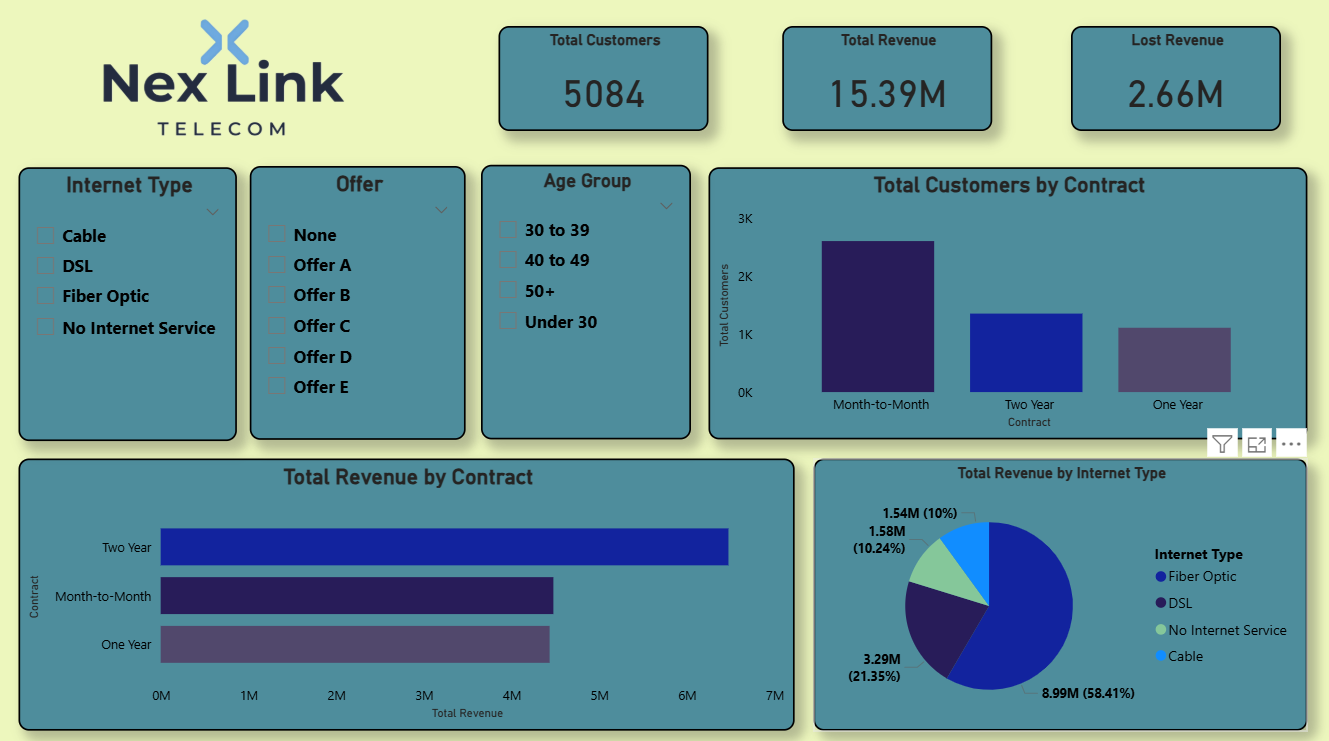

This screenshot's page, from the dashboard's own definition file:
{"tool":"powerbi","page":{"name":"Telecom Customer Insights Dashboard","canvas":[1280,720],"ordinal":0},"visuals":[{"type":"card","title":"Total Customers","fields":{"Values":["MyMeasures.Total Customers"]},"box":[478.6,33.3,200,100],"z":0},{"type":"card","title":"Total Revenue","fields":{"Values":["MyMeasures.Total Revenue"]},"box":[748.8,33.3,200,100],"z":1000},{"type":"card","title":"Lost Revenue","fields":{"Values":["MyMeasures.Lost Revenue"]},"box":[1023.8,33.3,200,100],"z":2000},{"type":"image","box":[77.4,0,267.9,167.9],"z":3000},{"type":"clusteredBarChart","fields":{"Category":["Customer Churn.Contract"],"Y":["MyMeasures.Total Revenue"]},"box":[21.4,445.2,739.3,259.5],"z":4000},{"type":"columnChart","fields":{"Category":["Customer Churn.Contract"],"Y":["MyMeasures.Total Customers"]},"box":[678.6,167.9,570.2,259.5],"z":5000},{"type":"pieChart","fields":{"Category":["Customer Churn.Internet Type"],"Y":["MyMeasures.Total Revenue"]},"box":[778.6,445.2,470.2,259.5],"z":6000},{"type":"slicer","title":"Internet Type","fields":{"Values":["Customer Churn.Internet Type"]},"box":[21.4,167.9,208.3,260.7],"z":7000},{"type":"slicer","title":"Offer","fields":{"Values":["Customer Churn.Offer"]},"box":[241.7,166.7,206,260.7],"z":8000},{"type":"slicer","title":"Age Group","fields":{"Values":["Customer Churn.Age Group"]},"box":[461.9,165.5,200,261.9],"z":9000}]}

Visuals, with their boxes in screenshot pixels (x1, y1, x2, y2), scaled from the page's 1280x720 canvas onto the 1329x741 screenshot:
"Total Customers" card: box=[497, 34, 705, 137]
"Total Revenue" card: box=[777, 34, 985, 137]
"Lost Revenue" card: box=[1063, 34, 1271, 137]
image: box=[80, 0, 359, 173]
clusteredBarChart - Customer Churn.Contract x MyMeasures.Total Revenue: box=[22, 458, 790, 725]
columnChart - Customer Churn.Contract x MyMeasures.Total Customers: box=[705, 173, 1297, 440]
pieChart - Customer Churn.Internet Type x MyMeasures.Total Revenue: box=[808, 458, 1297, 725]
"Internet Type" slicer: box=[22, 173, 238, 441]
"Offer" slicer: box=[251, 172, 465, 440]
"Age Group" slicer: box=[480, 170, 687, 440]
